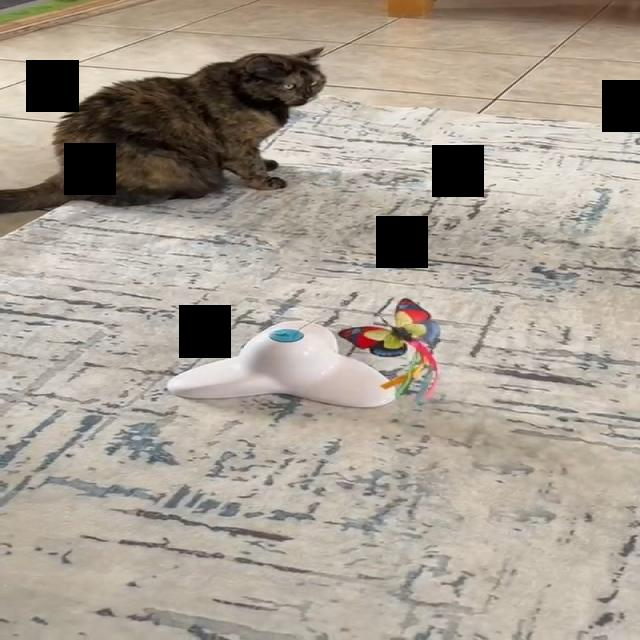authorized: (0, 46, 327, 214)
